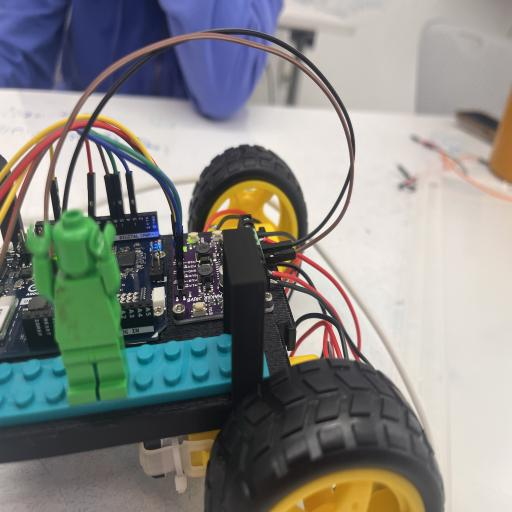Lego-Minifig: (28, 210, 129, 405)
